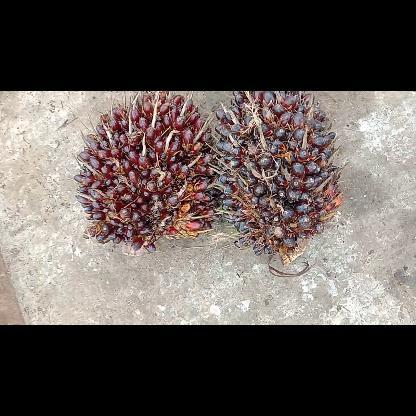Kurang masak: (216, 91, 342, 261)
TBS masak: (76, 91, 218, 253)
